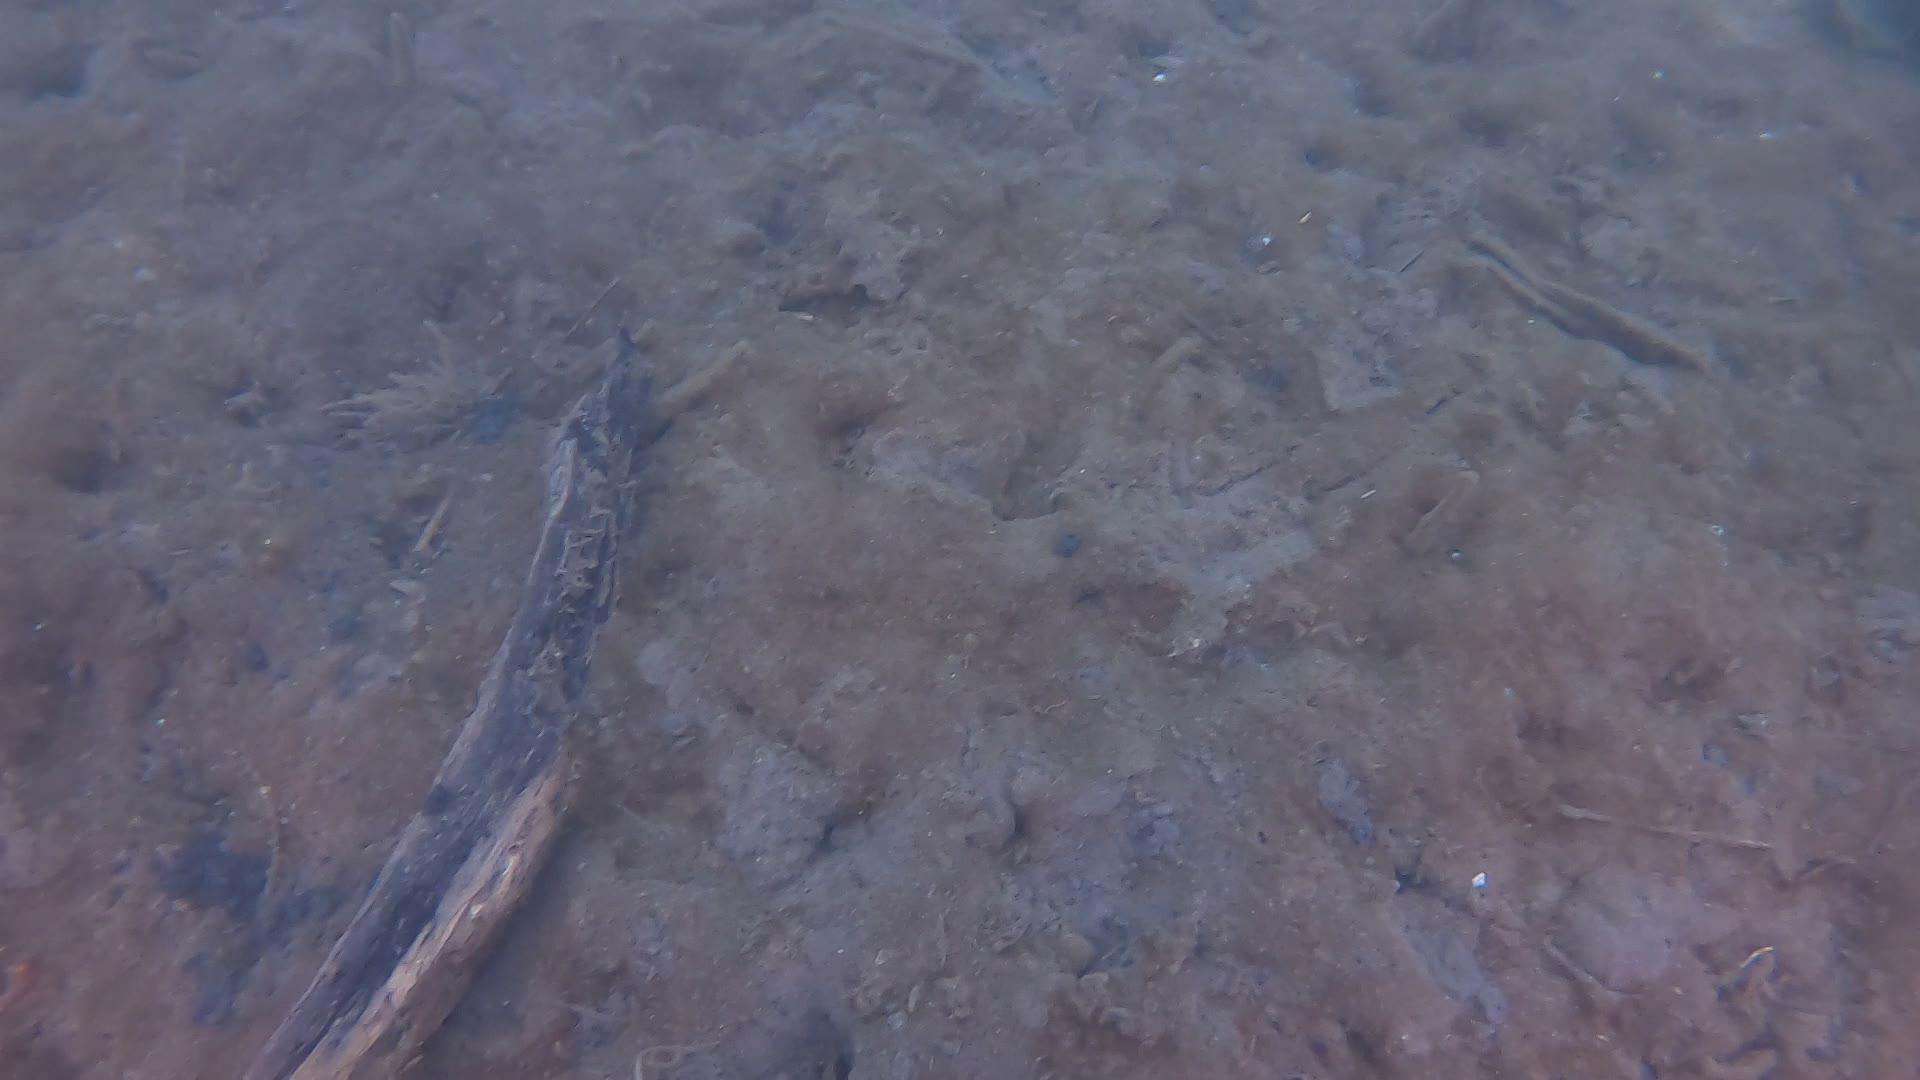wood: (233, 345, 649, 1080)
